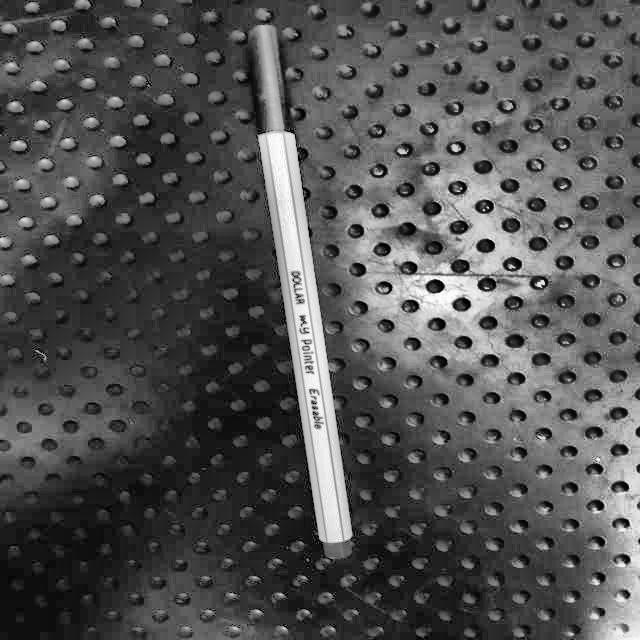Pen: (217, 10, 445, 591)
